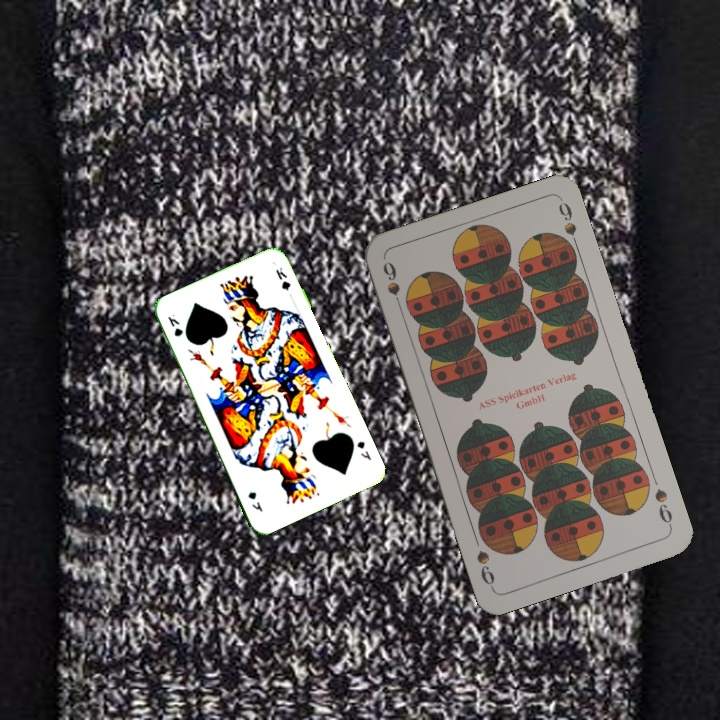GK: (163, 310, 185, 341), (353, 437, 374, 463)
S9: (378, 257, 406, 315), (651, 484, 675, 531)
